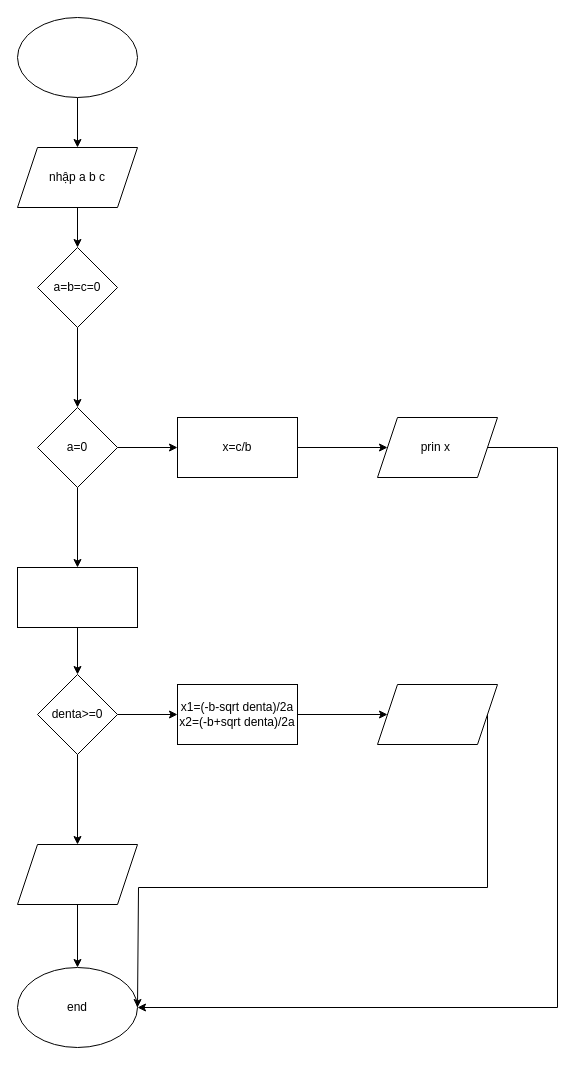
Some shapes in this 583 by 1065 pixel diagram are drawn without their labels. The box of each missing label's shape, as (x1, y1, x2, y2) in pixels:
denta=b*b-4ac: (16, 566, 138, 628)
phương trình vô nghiệm: (16, 844, 138, 904)
prin x1 x2: (376, 684, 498, 744)
start: (16, 16, 138, 98)
